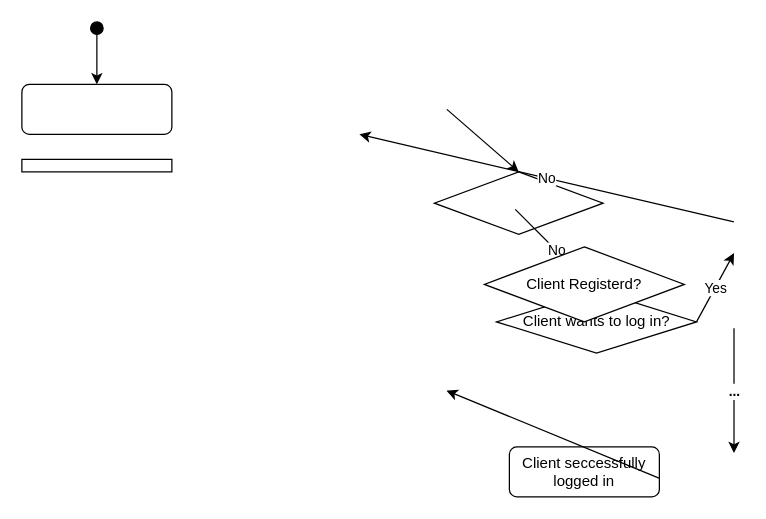
Image size: 766x519. Some labels were removed from this diagram. Each missing label, with the centre of its shape:
Client logged in?: [518,202]
View movie raiting: [96,108]
